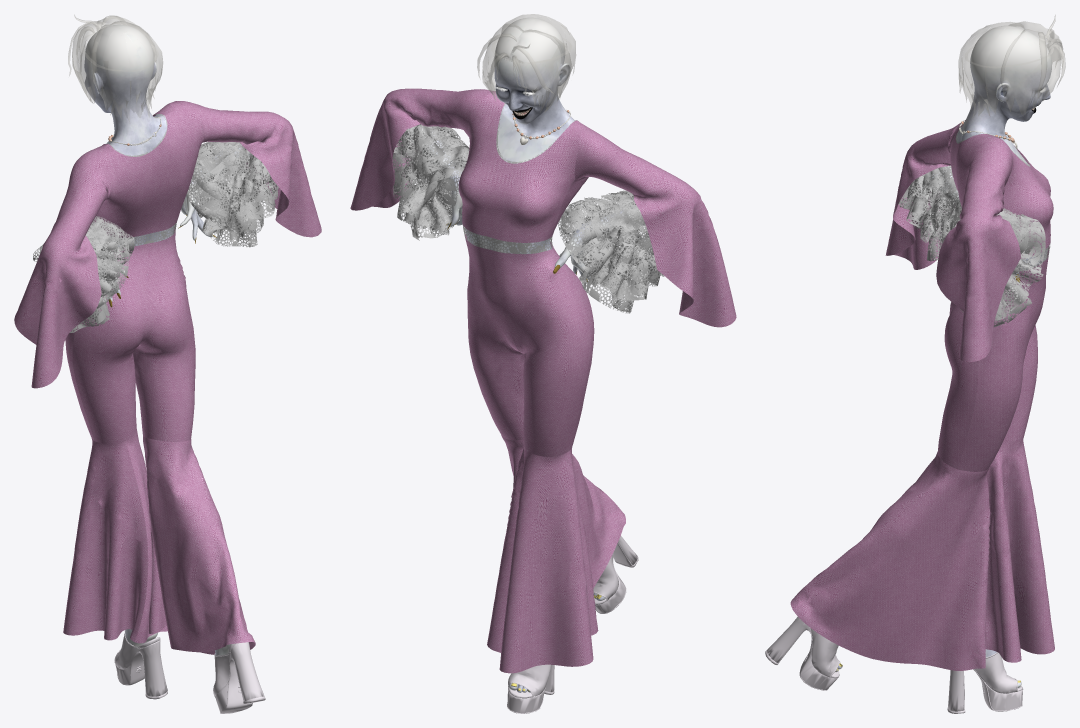
The model's file is Avatar_Jumpsuit.glb.
3 renders of one model, left to right at view 1: azimuth 30°, elevation 25°; view 2: azimuth 150°, elevation 25°; view 3: azimuth 270°, elevation 25°, orthographic. The views are drawn at different scales.
Parts seen in each view (by area): view 1: Jumpsuit, Genesis9, hair, Adele_Necklace_7668; view 2: Jumpsuit, Genesis9, hair, Adele_Necklace_7668; view 3: Jumpsuit, Genesis9, hair, Adele_Necklace_7668.
Part boxes in pixels (left/top/right/bottom): Jumpsuit: left=14, top=101, right=321, bottom=654; Genesis9: left=84, top=24, right=254, bottom=655; hair: left=68, top=15, right=162, bottom=121; Adele_Necklace_7668: left=108, top=117, right=265, bottom=713; Jumpsuit: left=350, top=88, right=736, bottom=673; Genesis9: left=404, top=17, right=645, bottom=692; hair: left=477, top=14, right=575, bottom=112; Adele_Necklace_7668: left=507, top=110, right=638, bottom=713; Jumpsuit: left=790, top=120, right=1054, bottom=670; Genesis9: left=834, top=25, right=1052, bottom=687; hair: left=958, top=15, right=1065, bottom=117; Adele_Necklace_7668: left=765, top=120, right=1023, bottom=713.
Bounding box in the file's own units: 93.05 × 180 × 72.25.
16 materials, 15 textured.
